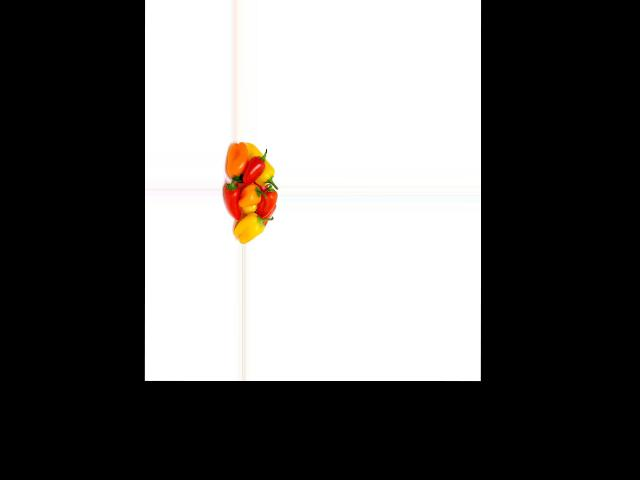bell_pepper: (246, 143, 277, 185)
